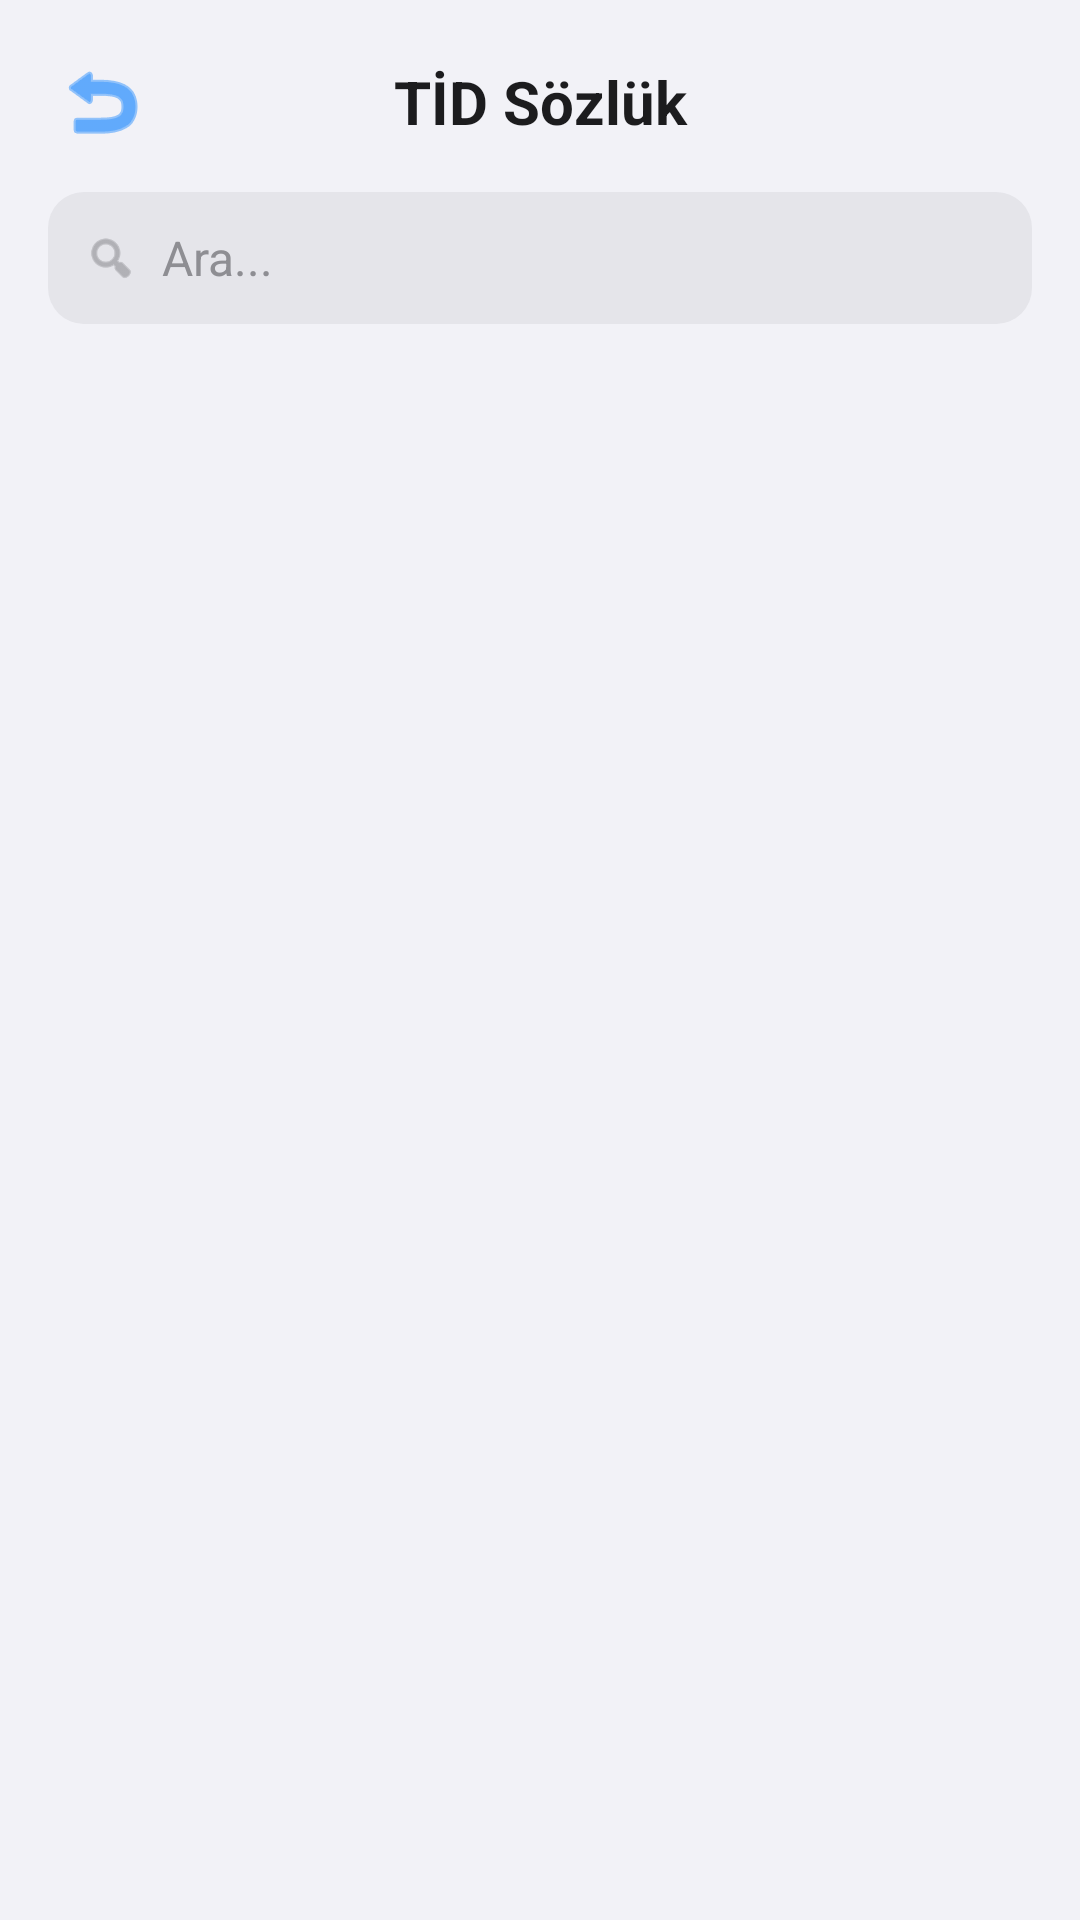

Where to tap for icons on this 1080px x 1920px app screen, as point (x, y):
revert: point (103, 102)
search: point (111, 258)
